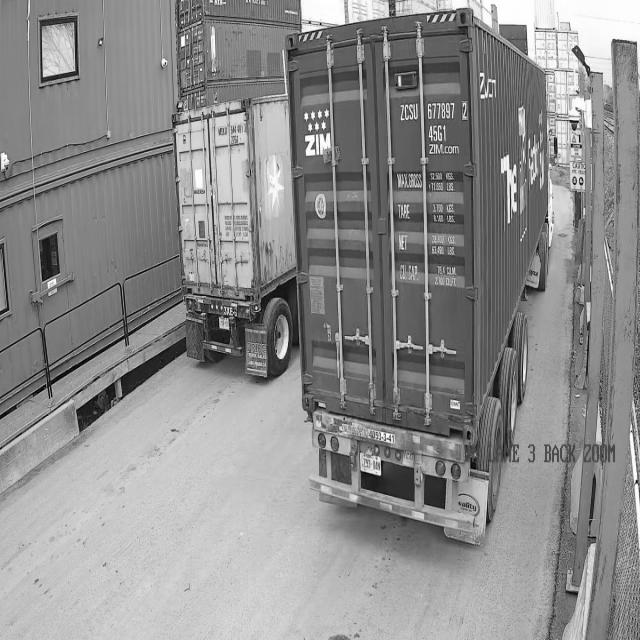container_company_logo: (297, 110, 344, 173)
container_number: (398, 98, 476, 142)
license_plate: (349, 438, 389, 481)
other_container_info: (393, 168, 468, 295)
truck_with_container: (287, 8, 553, 544), (172, 94, 298, 376)
